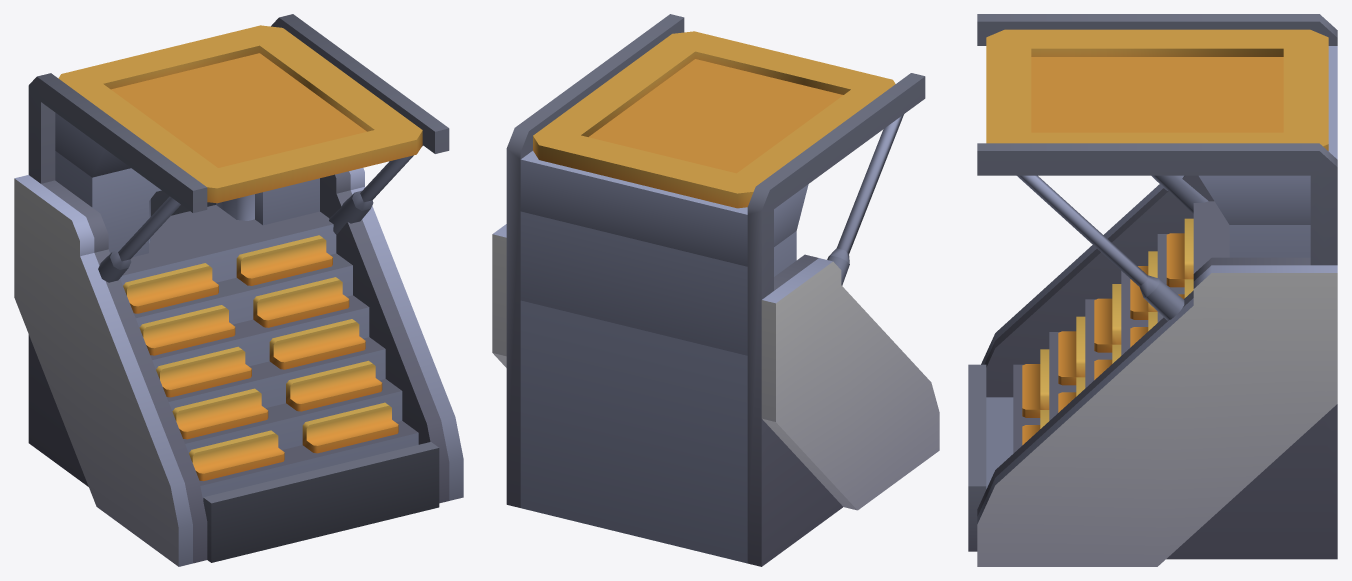
File: grandstand.glb
3 renders of one model, left to right at view 1: azimuth 30°, elevation 25°; view 2: azimuth 150°, elevation 25°; view 3: azimuth 270°, elevation 25°, orthographic. The views are drawn at different scales.
Parts seen in each view (by area): view 1: rk_grandstand-roof; view 2: rk_grandstand-roof; view 3: rk_grandstand-roof.
Boxes of the visible parts, x1,y1,x2,y2 form: rk_grandstand-roof: (14, 14, 463, 566); rk_grandstand-roof: (492, 14, 939, 566); rk_grandstand-roof: (968, 14, 1337, 566).
Bounding box in the file's own units: 2 × 2.5 × 2.05.
